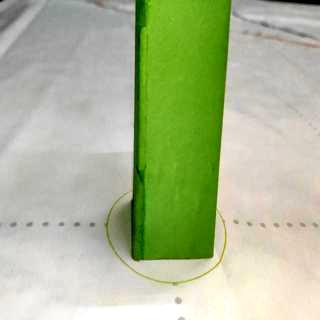greenbox: (134, 0, 234, 266)
